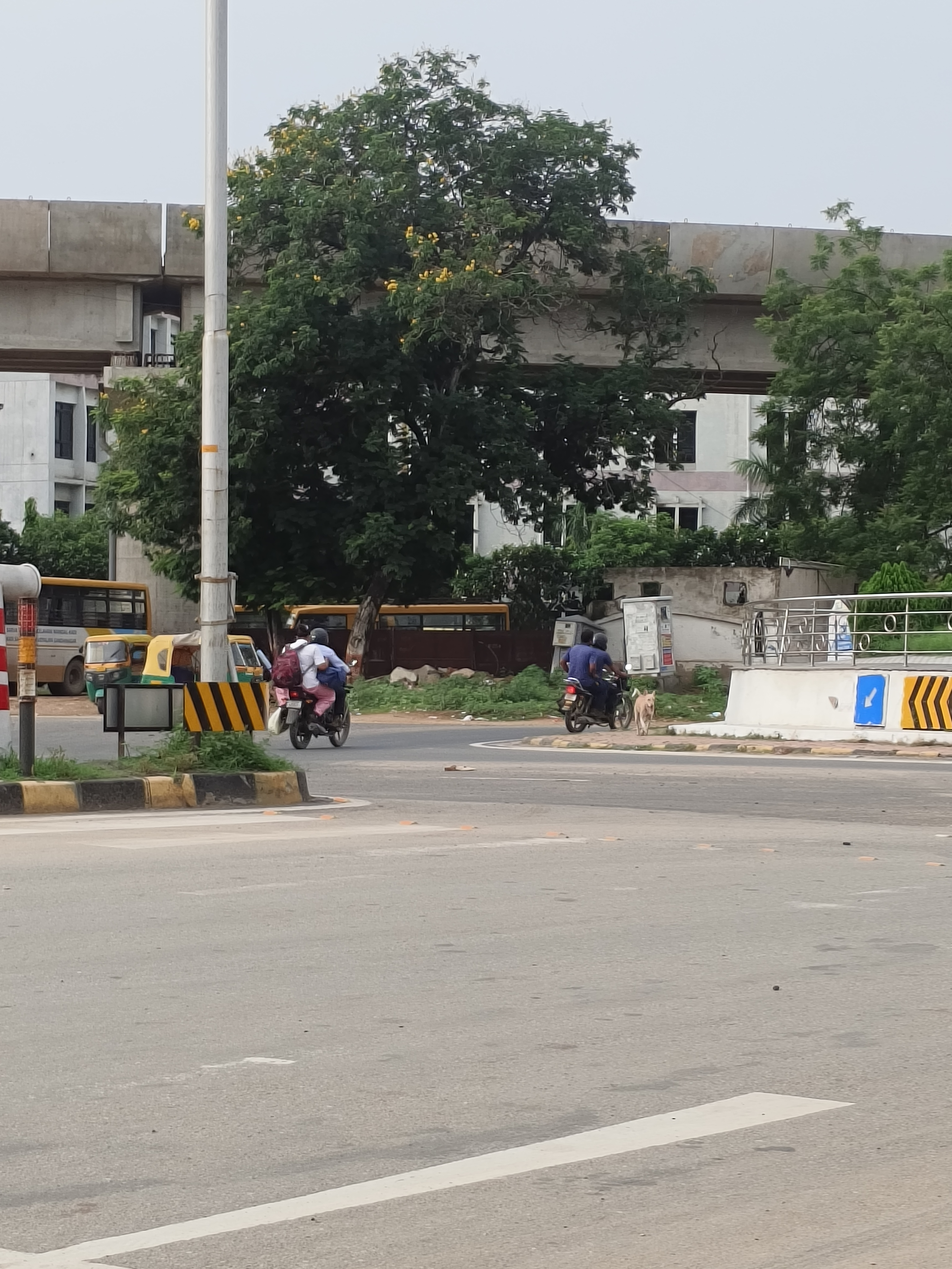BikeWithRider: (266, 617, 364, 754), (551, 628, 638, 737)
Helmet: (300, 620, 335, 652), (587, 632, 609, 652)
